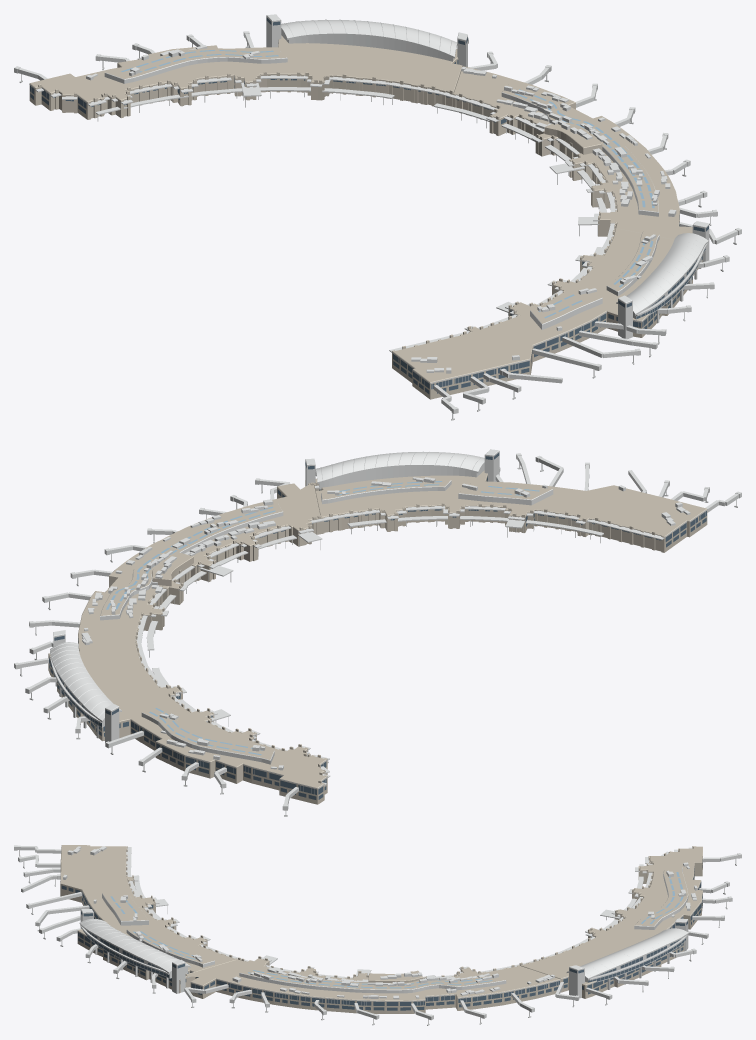
The model's file is dal-dfw-terminal-e.detail.glb.
3 views of the same model, one above another, from view 1: azimuth 30°, elevation 25°; view 2: azimuth 150°, elevation 25°; view 3: azimuth 270°, elevation 25° (orthographic). The views are drawn at different scales.
Visible parts, largest first — view 1: DFW Airport Terminal E; view 2: DFW Airport Terminal E; view 3: DFW Airport Terminal E.
Boxes of the visible parts, bbox=[...] form: DFW Airport Terminal E: bbox=[14, 14, 741, 420]; DFW Airport Terminal E: bbox=[14, 449, 741, 816]; DFW Airport Terminal E: bbox=[14, 845, 741, 1025].
Size of the model in its own units: 363 by 28.9 by 651.
